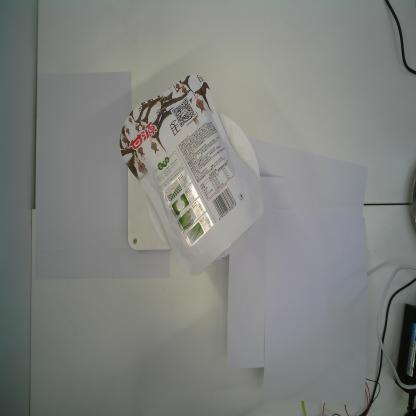Dried Fruit: (119, 73, 265, 278)
